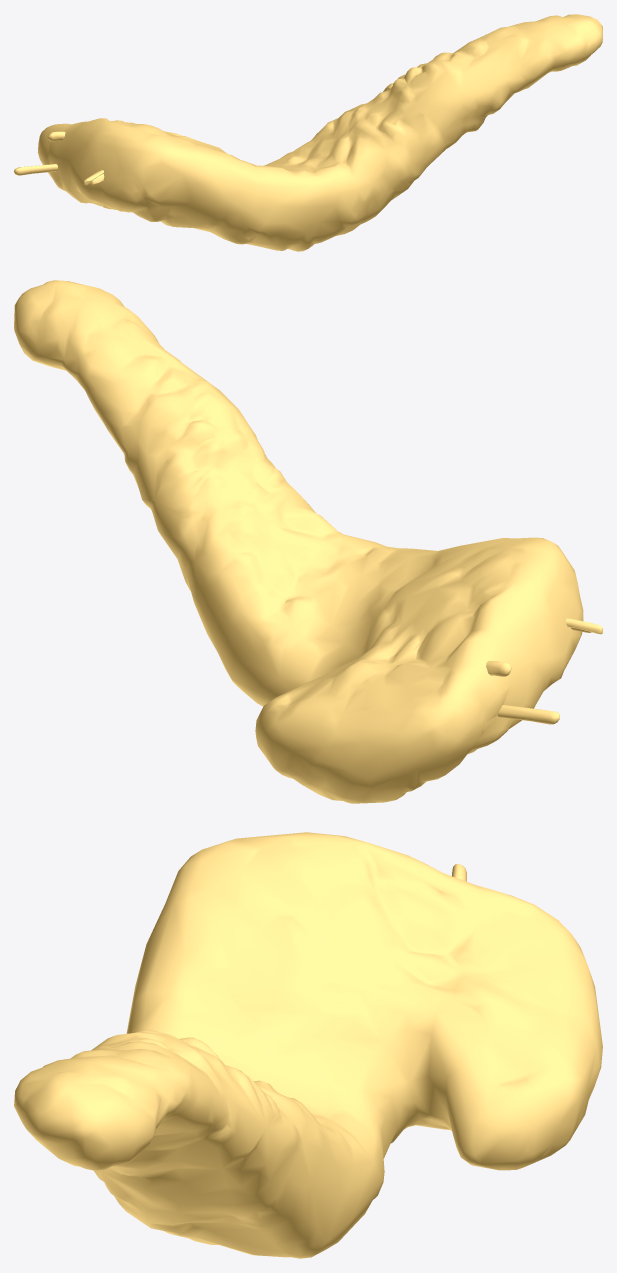
File: pancreas.glb
3 renders of one model, top to bottom at view 1: azimuth 30°, elevation 25°; view 2: azimuth 150°, elevation 25°; view 3: azimuth 270°, elevation 25°, orthographic. The views are drawn at different scales.
Parts seen in each view (by area): view 1: grp1_2, grp1; view 2: grp1_2, grp1; view 3: grp1_2.
Boxes of the visible parts, left/top/right/bottom form: grp1_2: left=38, top=14, right=602, bottom=251; grp1: left=14, top=164, right=103, bottom=185; grp1_2: left=14, top=280, right=583, bottom=803; grp1: left=497, top=618, right=602, bottom=724; grp1_2: left=14, top=832, right=602, bottom=1258.
Size of the model in its own units: 129 by 50.97 by 73.74.
